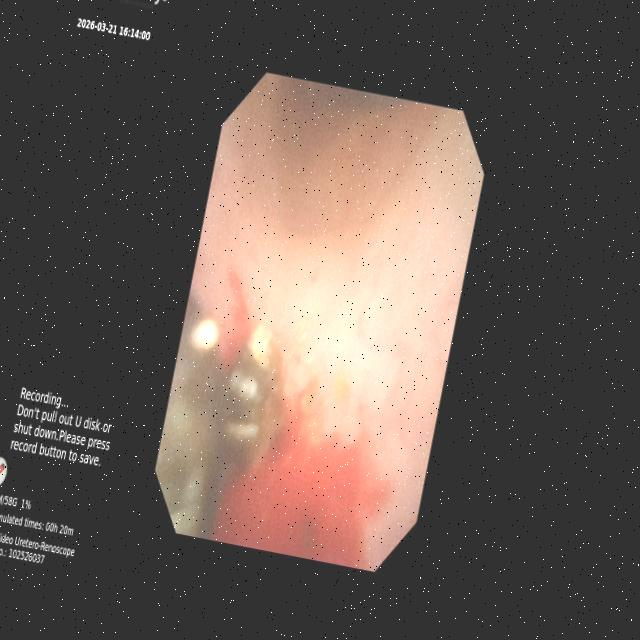stone-new: (156, 296, 285, 538)
